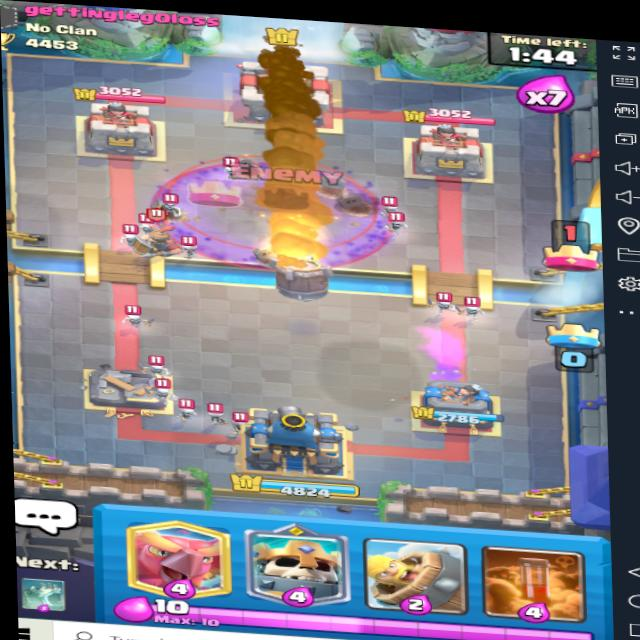graveyard: (152, 153, 397, 281)
rocket: (254, 254, 338, 308)
royal-recruits: (129, 221, 181, 263)
skeleton: (138, 373, 180, 405), (225, 409, 260, 440), (212, 159, 253, 181), (116, 304, 149, 330), (160, 193, 188, 219), (169, 398, 199, 418), (177, 233, 204, 255), (146, 360, 175, 379), (459, 297, 484, 319), (430, 297, 458, 316), (120, 225, 143, 247), (198, 405, 225, 423), (385, 215, 409, 235), (382, 193, 403, 214)
